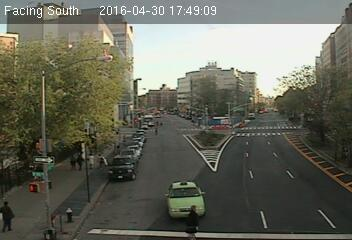neg: (11, 140, 44, 184), (317, 65, 348, 106), (80, 84, 109, 122), (237, 79, 260, 110), (54, 53, 75, 81), (291, 139, 311, 165), (143, 112, 161, 136), (206, 120, 223, 144), (206, 43, 223, 66), (161, 61, 178, 83), (61, 204, 77, 225), (106, 35, 119, 52)
pos: (178, 202, 204, 236), (1, 197, 26, 231), (95, 151, 109, 170), (64, 155, 77, 172), (87, 152, 98, 168), (77, 155, 87, 168)
